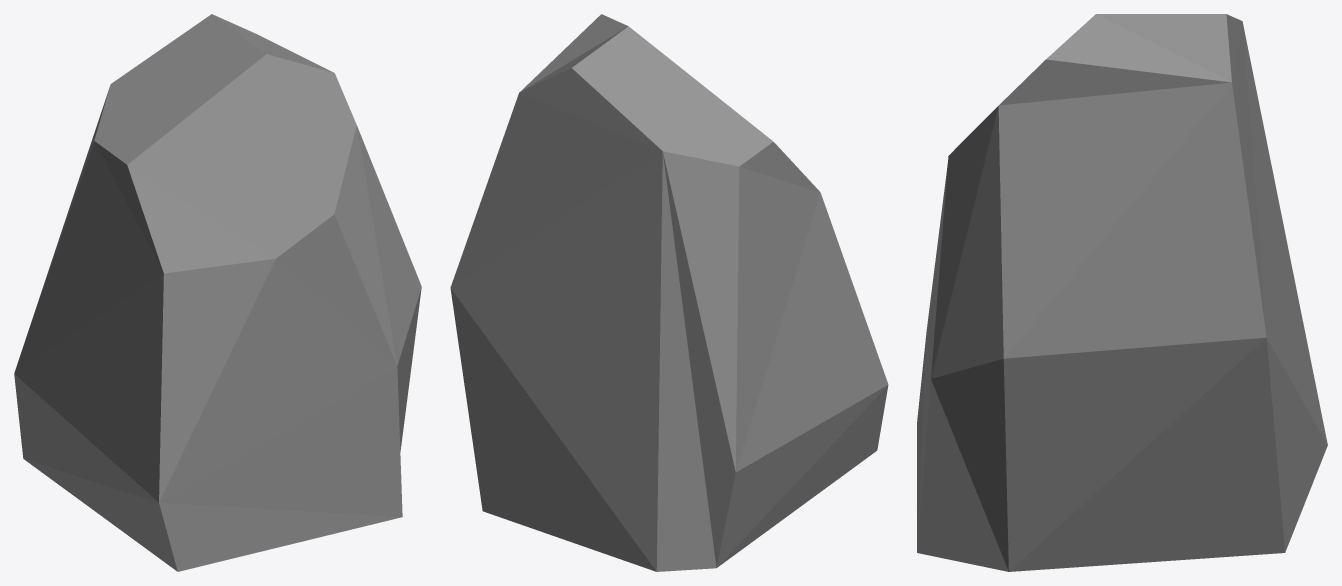
The model's file is Stone_B_13.FBX.
3 renders of one model, left to right at view 1: azimuth 30°, elevation 25°; view 2: azimuth 150°, elevation 25°; view 3: azimuth 270°, elevation 25°, orthographic. The views are drawn at different scales.
Parts seen in each view (by area): view 1: Stone_B_13; view 2: Stone_B_13; view 3: Stone_B_13.
Boxes of the visible parts, left/top/right/bottom form: Stone_B_13: left=14, top=14, right=421, bottom=571; Stone_B_13: left=450, top=14, right=888, bottom=571; Stone_B_13: left=917, top=14, right=1327, bottom=571.
Size of the model in its own units: 2.98 by 4.08 by 3.01.
